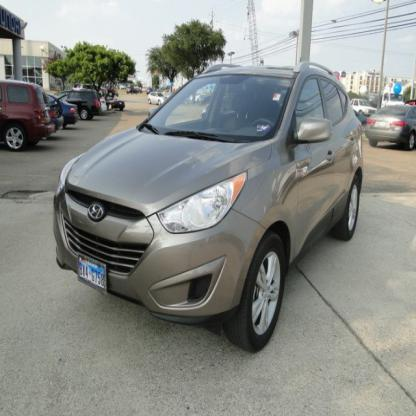Vehicle: (53, 63, 363, 353)
